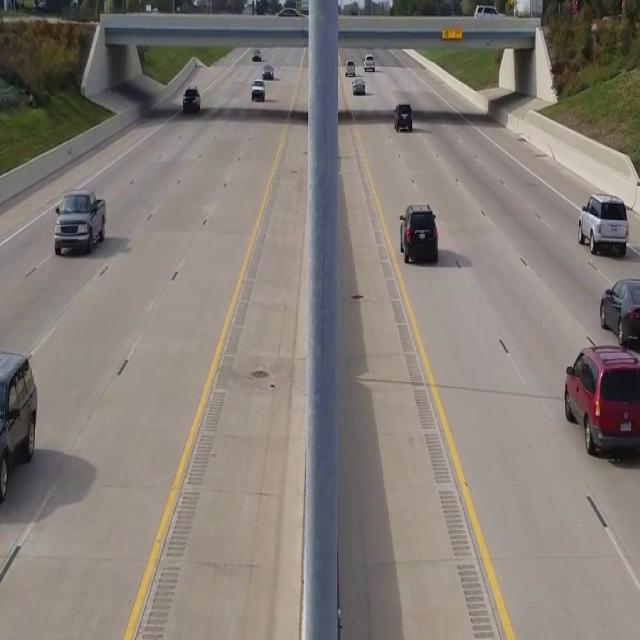car: (564, 338, 640, 457), (0, 349, 38, 505), (53, 190, 106, 256), (578, 192, 628, 255), (599, 277, 640, 353), (398, 204, 438, 264), (394, 102, 412, 132), (182, 86, 200, 114), (251, 80, 265, 101)
